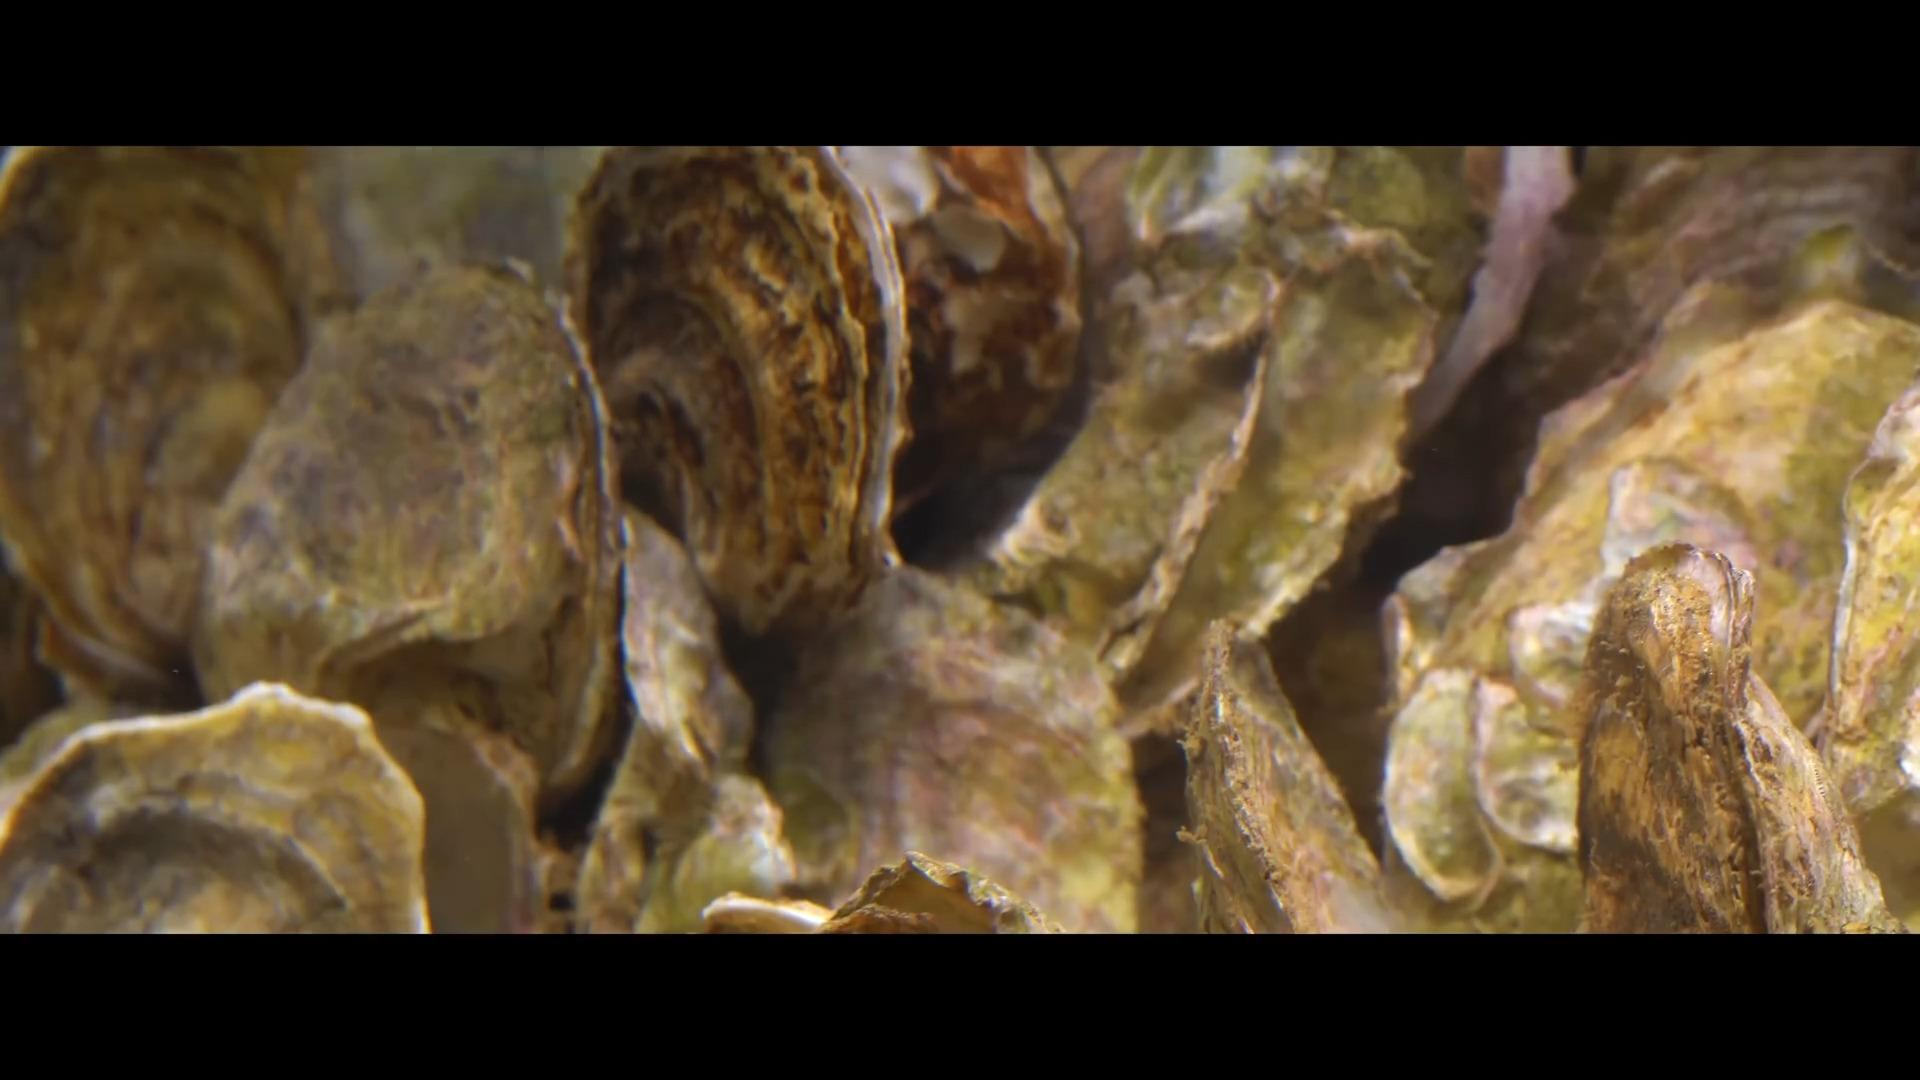Oyster: (194, 262, 624, 831), (0, 146, 316, 705), (566, 146, 909, 632), (729, 555, 1142, 938), (1578, 543, 1912, 934), (1497, 142, 1920, 446), (0, 684, 429, 934), (876, 153, 1088, 509), (1179, 621, 1398, 931), (303, 146, 585, 313)
